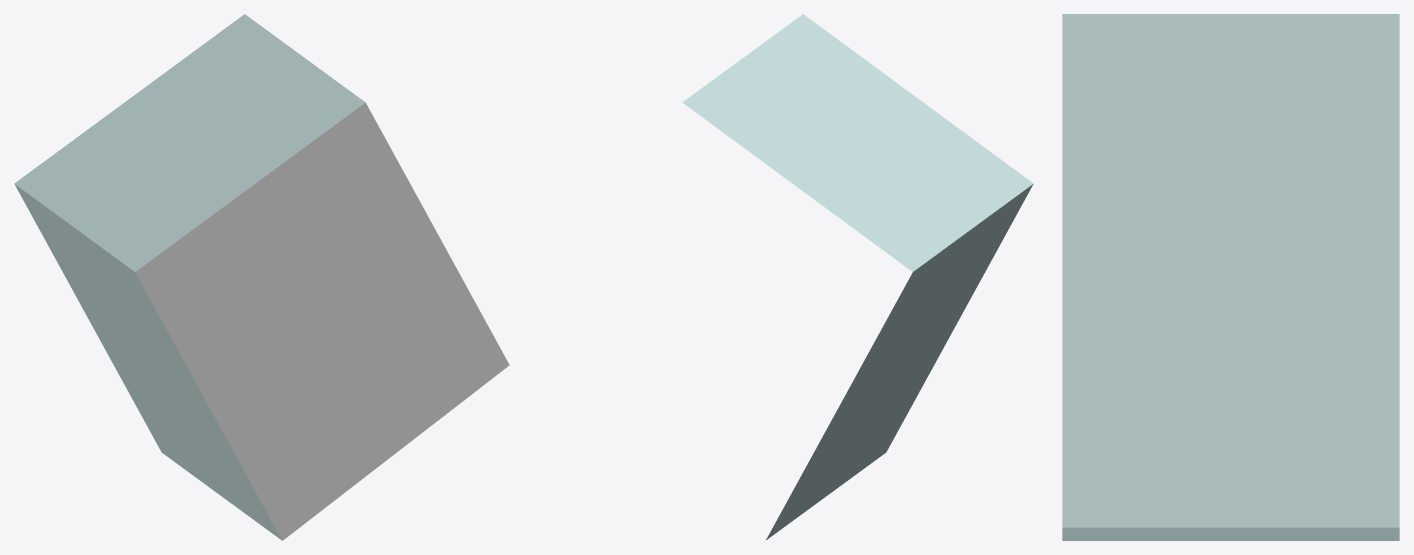
The picture shows the model from 3 angles, left to right: view 1: azimuth 30°, elevation 25°; view 2: azimuth 150°, elevation 25°; view 3: azimuth 270°, elevation 25°; orthographic projection. The views are drawn at different scales.
Visible parts, largest first — view 1: 0_2_2_1_3_3_0; view 2: 0_2_2_1_3_3_0; view 3: 0_2_2_1_3_3_0.
Part boxes in pixels (<box>): 0_2_2_1_3_3_0: <box>14,14,509,540</box>; 0_2_2_1_3_3_0: <box>682,14,1033,540</box>; 0_2_2_1_3_3_0: <box>1062,14,1399,540</box>.
Size of the model in its own units: 5.37 by 5.72 by 3.
